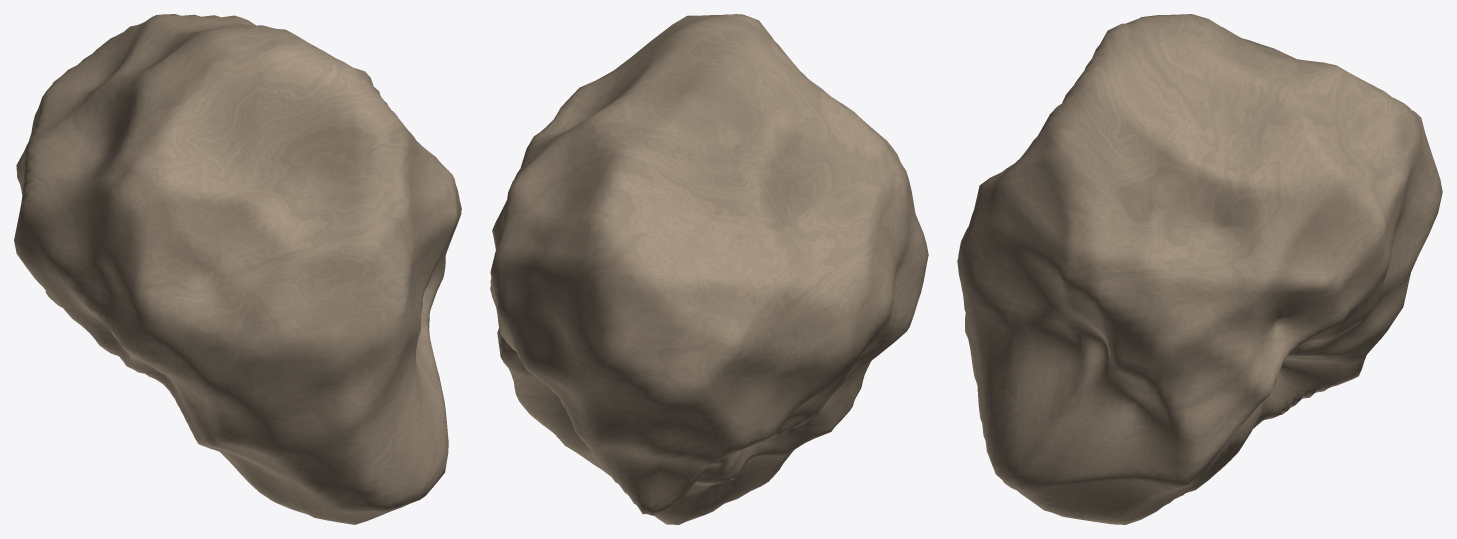
File: boulder5.fbx
3 renders of one model, left to right at view 1: azimuth 30°, elevation 25°; view 2: azimuth 150°, elevation 25°; view 3: azimuth 270°, elevation 25°, orthographic. The views are drawn at different scales.
Parts seen in each view (by area): view 1: cube.sphere.32; view 2: cube.sphere.32; view 3: cube.sphere.32.
Boxes of the visible parts, x1,y1,x2,y2 form: cube.sphere.32: (14,14,461,524); cube.sphere.32: (490,14,928,524); cube.sphere.32: (957,14,1442,524).
Size of the model in its own units: 113 by 134 by 130.
